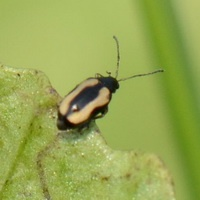insect: (57, 36, 163, 129)
